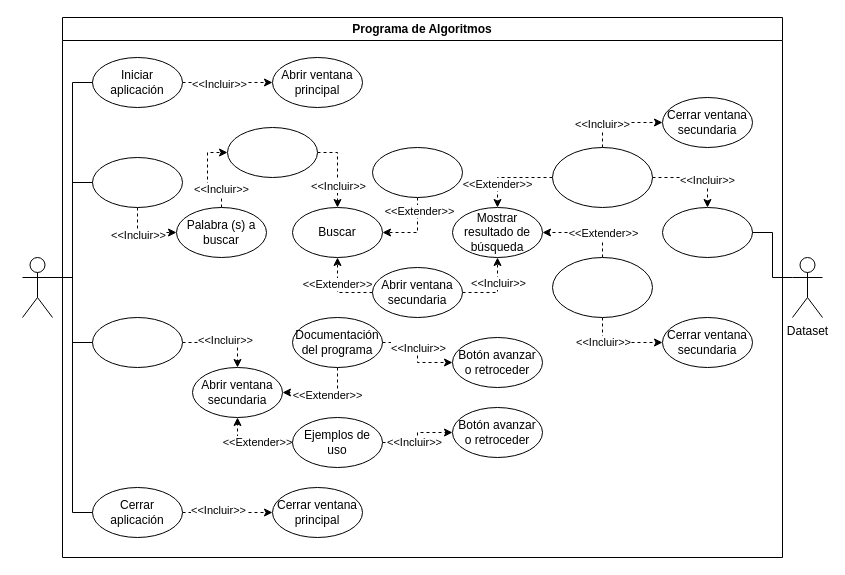
Some shapes in this 845 by 575 pixel diagram are drawn without their labels. Here are the shapes that lost their labels. From the top down, the centre of each, then its label:
At point (272, 152): "Algoritmo a ocupar".
At point (417, 172): "Error: 'Ingrese una palabra'".
At point (137, 182): "Interfaz de búsqueda".
At point (602, 177): "Palabra (s) y su definición".
At point (707, 232): "Diccionario".
At point (37, 287): "Usuario".
At point (602, 287): "Mostrar: 'No se encontró la palabra'".
At point (137, 342): "Ayuda/Manual de Usuario".
